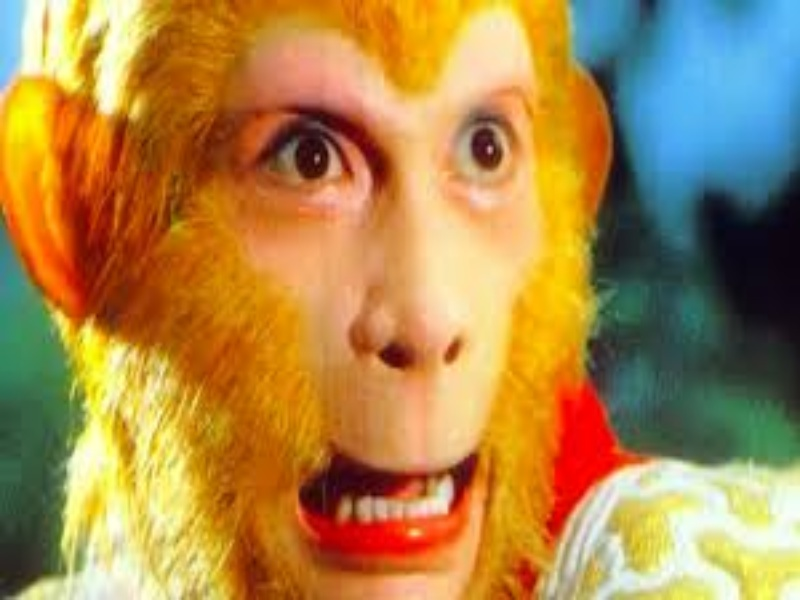monkey: (1, 1, 689, 591)
